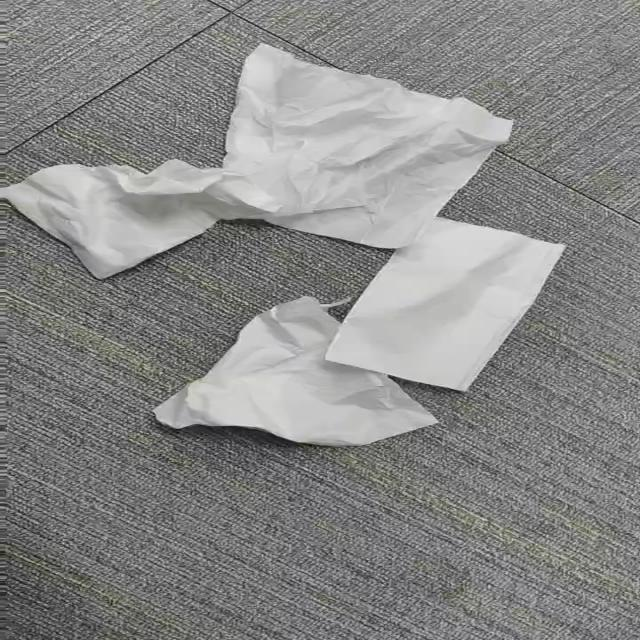paper: (0, 44, 509, 278), (156, 297, 436, 446), (325, 218, 564, 391)
